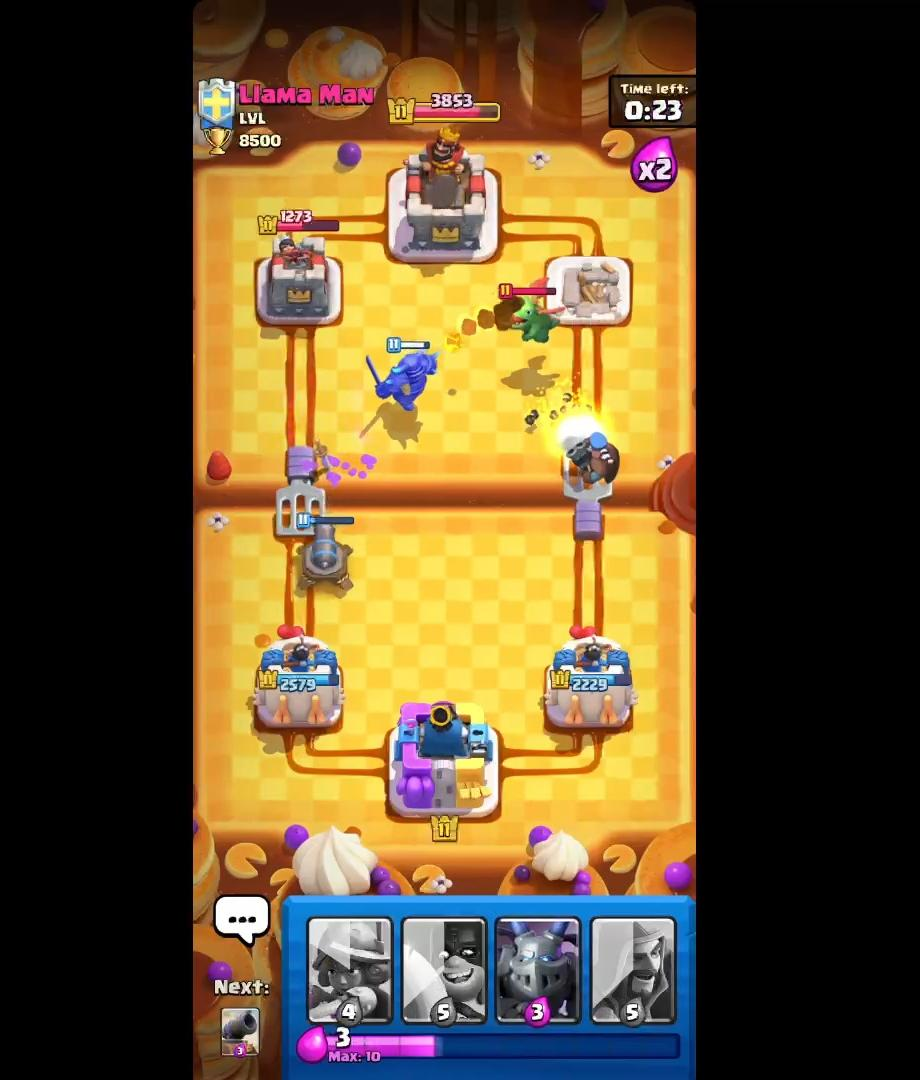Baby Dragon: (496, 275, 569, 350)
